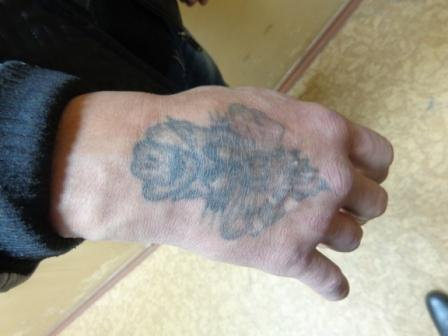tatu8_kot: (113, 111, 336, 254)
